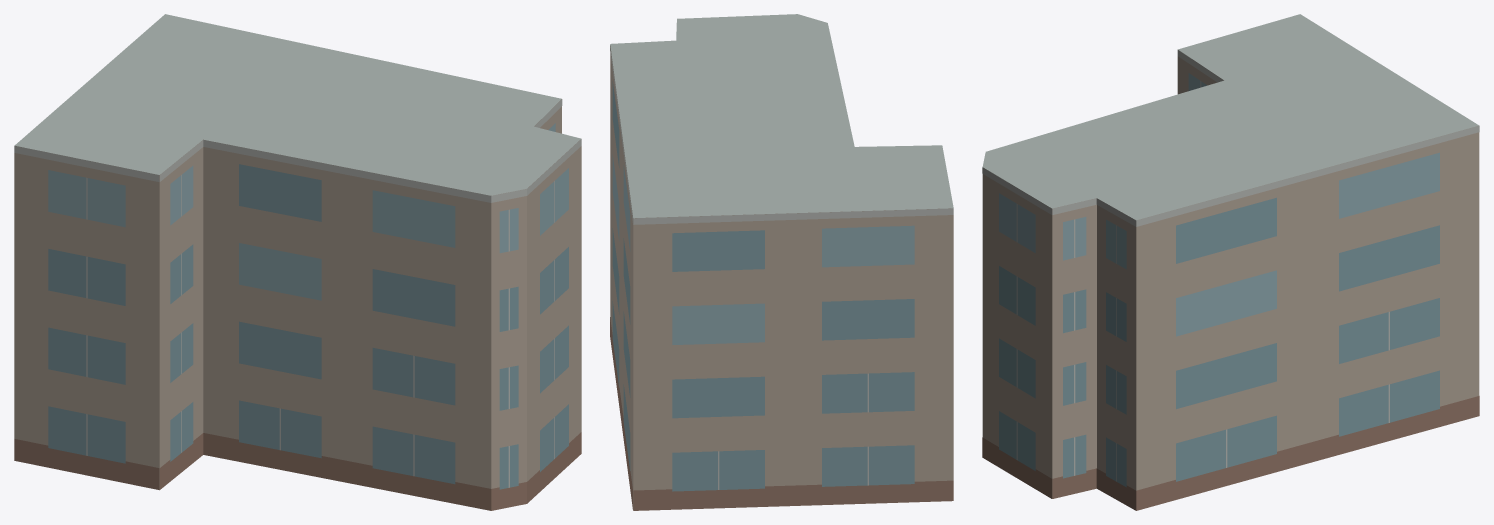
File: survey-upis-32499315.glb
The picture shows the model from 3 angles, left to right: view 1: azimuth 30°, elevation 25°; view 2: azimuth 150°, elevation 25°; view 3: azimuth 270°, elevation 25°; orthographic projection. The views are drawn at different scales.
Parts seen in each view (by area): view 1: survey-upis-32499315.tmp; view 2: survey-upis-32499315.tmp; view 3: survey-upis-32499315.tmp.
Part boxes in pixels (x1,y1,x2,y2): survey-upis-32499315.tmp: (14,14,581,510); survey-upis-32499315.tmp: (610,14,953,510); survey-upis-32499315.tmp: (982,14,1479,510).
Size of the model in its own units: 16.31 by 10.7 by 16.6.
